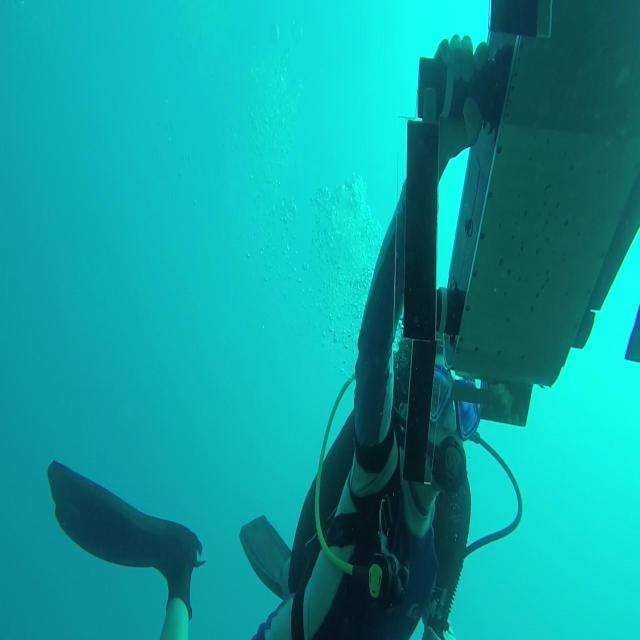human: (238, 32, 512, 638)
